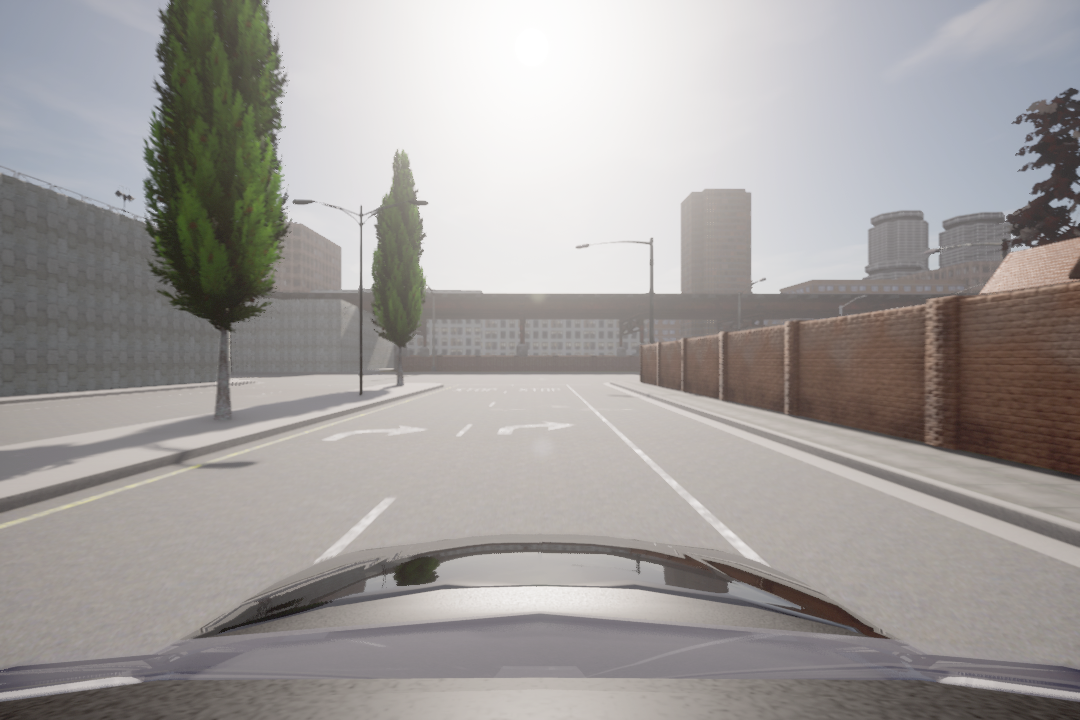RoadSign_right: (324, 421, 425, 447), (492, 417, 574, 437)
